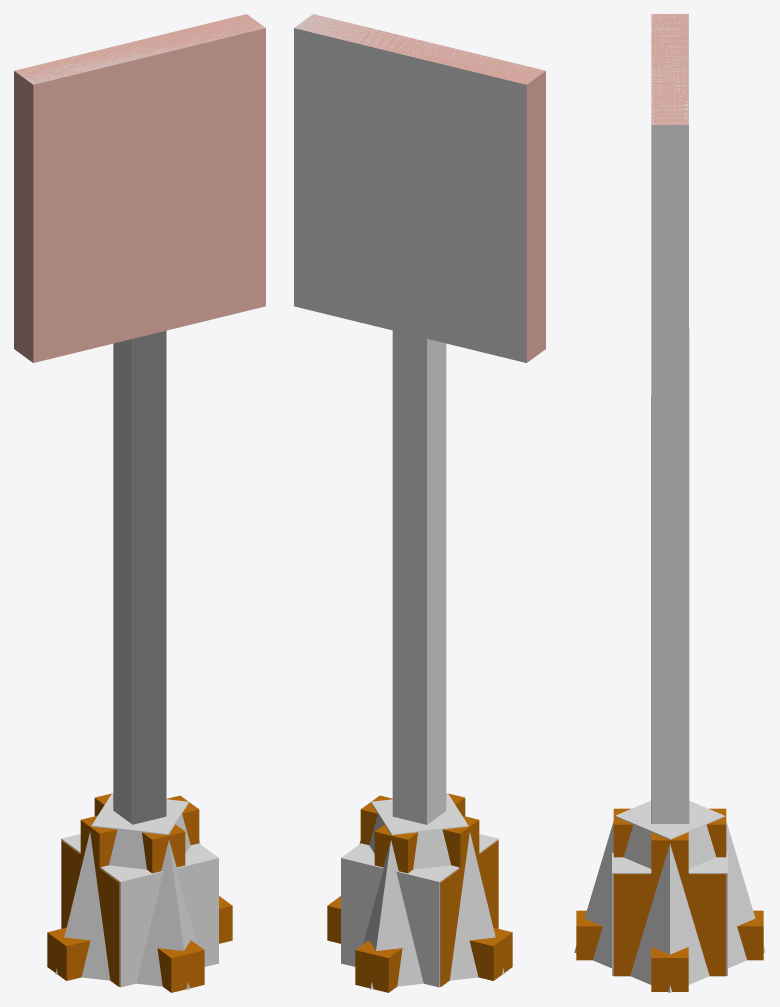
The model's file is RoadsSign1_B2_1_01.FBX.
3 renders of one model, left to right at view 1: azimuth 30°, elevation 25°; view 2: azimuth 150°, elevation 25°; view 3: azimuth 270°, elevation 25°, orthographic. The views are drawn at different scales.
Visible parts, largest first — view 1: RoadsSigns1_B2_Live_1_01, RoadsSigns1_B2_Damage_1_01; view 2: RoadsSigns1_B2_Damage_1_01, RoadsSigns1_B2_Live_1_01; view 3: RoadsSigns1_B2_Damage_1_01, RoadsSigns1_B2_Live_1_01.
Boxes of the visible parts, x1,y1,x2,y2 form: RoadsSigns1_B2_Live_1_01: [14, 14, 265, 992]; RoadsSigns1_B2_Damage_1_01: [18, 16, 264, 989]; RoadsSigns1_B2_Damage_1_01: [294, 14, 537, 989]; RoadsSigns1_B2_Live_1_01: [296, 14, 545, 992]; RoadsSigns1_B2_Damage_1_01: [574, 14, 765, 992]; RoadsSigns1_B2_Live_1_01: [576, 14, 763, 991].
Bounding box in the file's own units: 1.05 × 3.9 × 0.7665.
